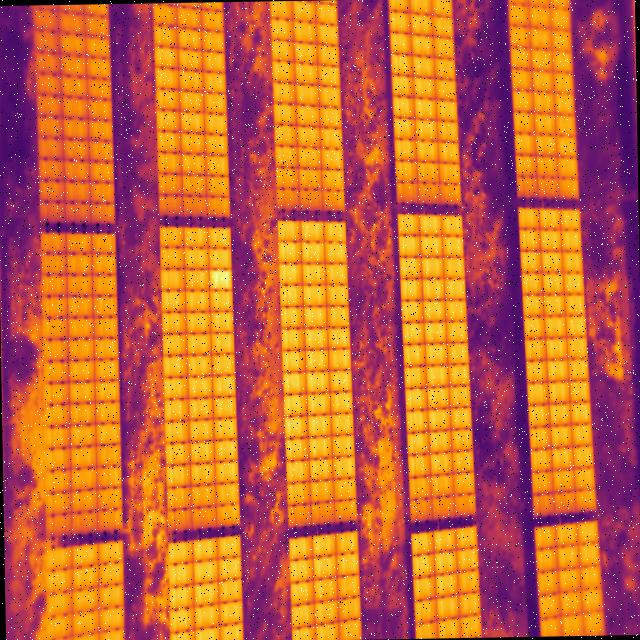Hotspot: (208, 266, 230, 290)
